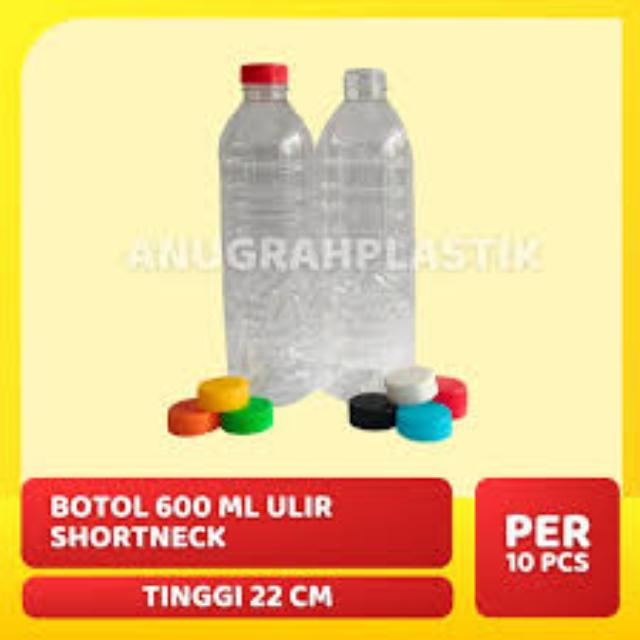trash: (216, 57, 322, 409), (314, 64, 418, 406)
